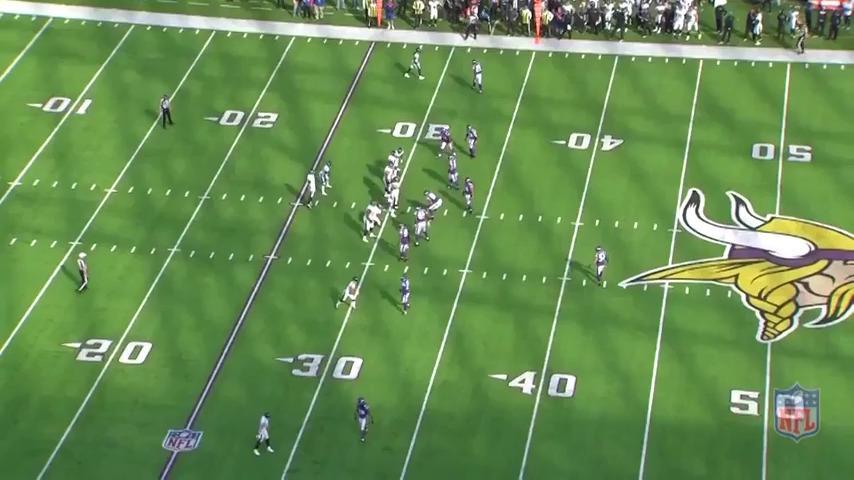player: (250, 410, 275, 458), (356, 394, 376, 447), (359, 201, 382, 243), (383, 175, 404, 220), (337, 276, 362, 313), (412, 205, 432, 249), (404, 48, 429, 83), (593, 244, 611, 290), (460, 175, 478, 219), (317, 160, 336, 201), (395, 222, 412, 265), (436, 126, 457, 160), (398, 274, 413, 321), (469, 58, 487, 97), (304, 167, 319, 211), (465, 122, 481, 162), (426, 190, 447, 220), (447, 152, 462, 191), (383, 162, 396, 202), (391, 147, 405, 173), (374, 201, 385, 227), (387, 150, 398, 170)
ref: (74, 249, 94, 298), (156, 92, 174, 131), (462, 10, 481, 42)
